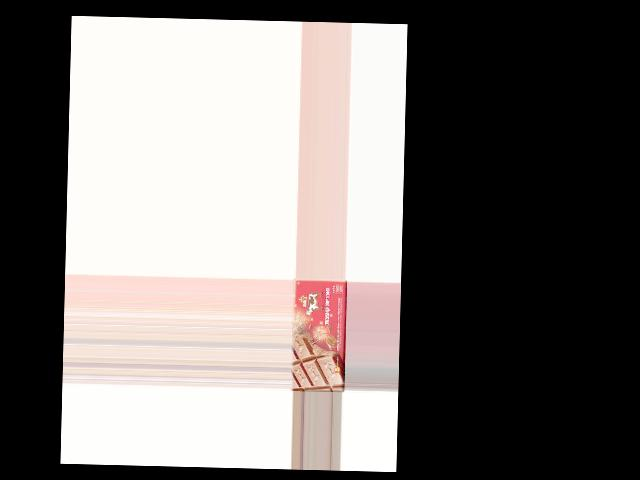chocolate: (291, 277, 347, 391)
